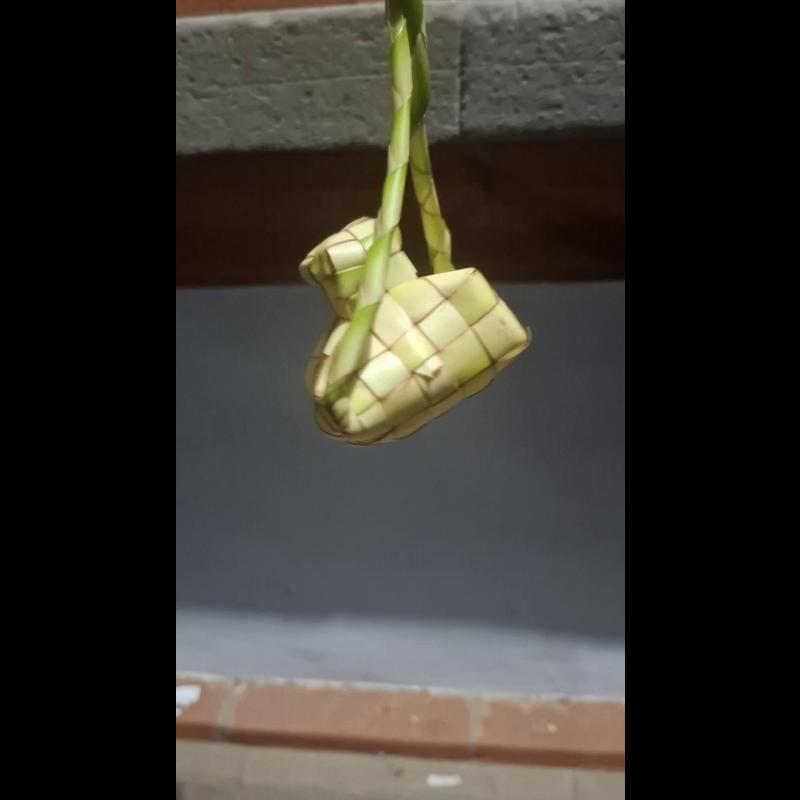Tipat Gong: (302, 0, 538, 462)
